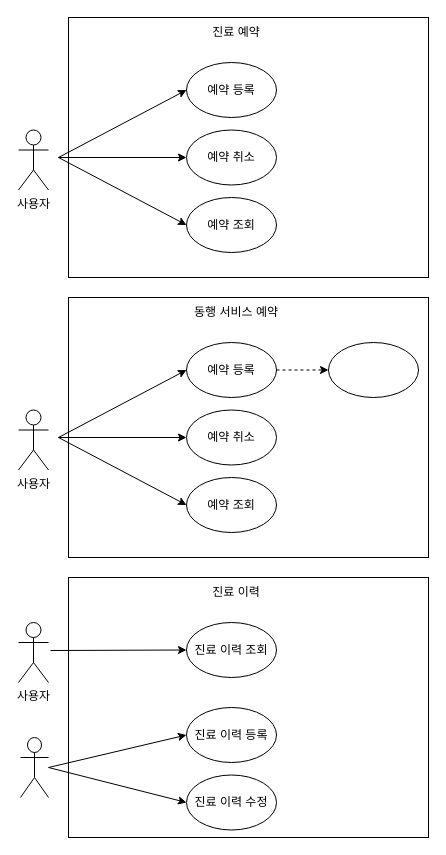
This 446x855 diagram has some shape labels left out. The centre of each missing label's shape, as x and y in pixels:
"별도 인증" goes at (373,370).
"의사" goes at (34,767).
